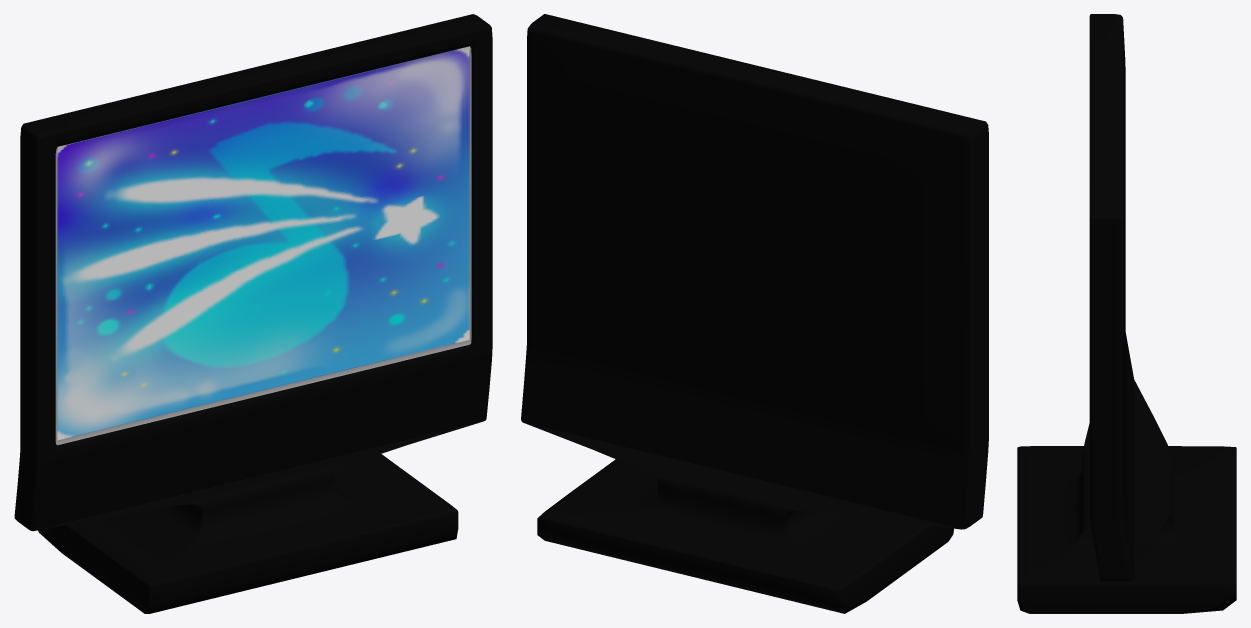
File: Monitor.fbx
3 renders of one model, left to right at view 1: azimuth 30°, elevation 25°; view 2: azimuth 150°, elevation 25°; view 3: azimuth 270°, elevation 25°, orthographic. The views are drawn at different scales.
Visible parts, largest first — view 1: pCube1; view 2: pCube1; view 3: pCube1.
Boxes of the visible parts, <box> form: pCube1: <box>14,14,492,613</box>; pCube1: <box>521,14,988,613</box>; pCube1: <box>1017,14,1236,613</box>.
Bounding box in the file's own units: 9.08 × 8.96 × 4.13.
3 materials, 1 textured.
